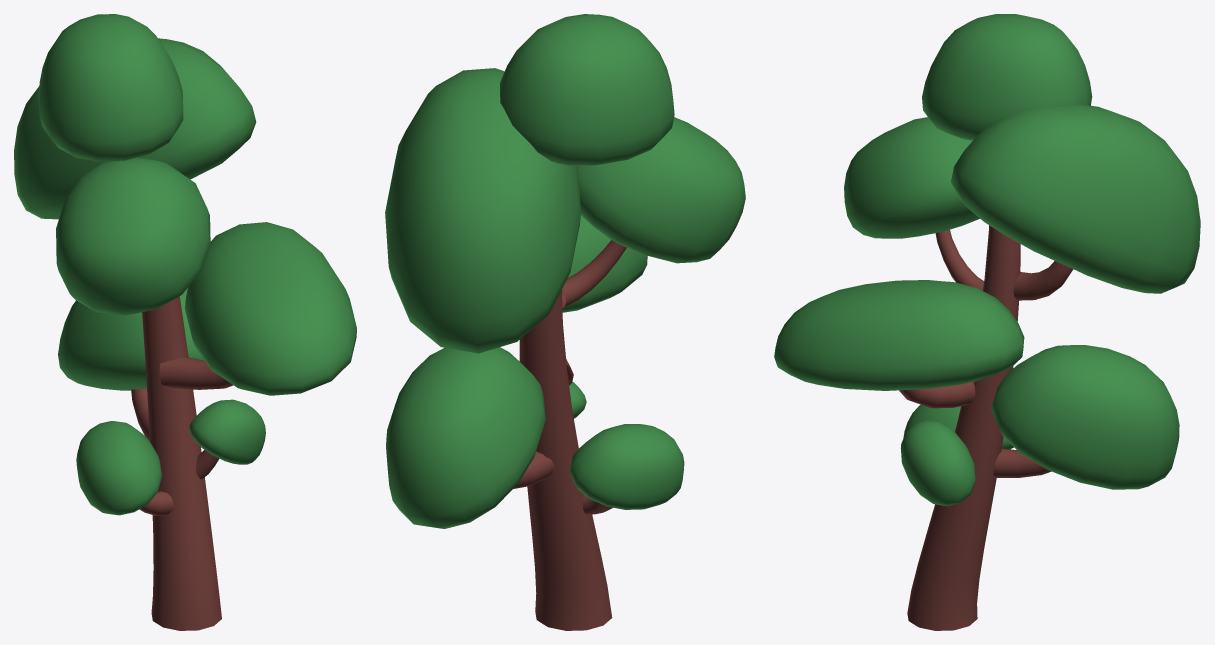
The model's file is tree01.fbx.
3 views of the same model, side by side, from view 1: azimuth 30°, elevation 25°; view 2: azimuth 150°, elevation 25°; view 3: azimuth 270°, elevation 25° (orthographic). The views are drawn at different scales.
Visible parts, largest first — view 1: Cube.017, Cube.015, Cube.014, BézierCurve.008, Cube.016, Cube.018, Cube.019, Cube.020, BézierCurve.011, BézierCurve.009, BézierCurve.013; view 2: Cube.016, Cube.018, Cube.014, Cube.015, BézierCurve.008, Cube.019, Cube.017, BézierCurve.012, BézierCurve.009; view 3: Cube.016, Cube.017, Cube.018, Cube.014, BézierCurve.008, Cube.015, Cube.020, BézierCurve.010, BézierCurve.011, BézierCurve.012, BézierCurve.009, Cube.019.
Boxes of the visible parts, x1,y1,x2,y2 form: Cube.017: [185, 222, 356, 395]; Cube.015: [56, 157, 210, 315]; Cube.014: [38, 14, 183, 161]; BézierCurve.008: [142, 296, 221, 630]; Cube.016: [14, 38, 256, 219]; Cube.018: [58, 288, 204, 390]; Cube.019: [76, 421, 162, 515]; Cube.020: [189, 399, 265, 464]; BézierCurve.011: [159, 357, 233, 389]; BézierCurve.009: [131, 389, 149, 440]; BézierCurve.013: [139, 491, 173, 515]; Cube.016: [385, 68, 580, 353]; Cube.018: [386, 347, 545, 528]; Cube.014: [500, 14, 674, 165]; Cube.015: [577, 117, 745, 263]; BézierCurve.008: [519, 290, 612, 630]; Cube.019: [569, 424, 684, 509]; Cube.017: [562, 215, 647, 312]; BézierCurve.012: [561, 240, 626, 308]; BézierCurve.009: [513, 451, 554, 488]; Cube.016: [951, 104, 1200, 293]; Cube.017: [774, 280, 1024, 390]; Cube.018: [991, 345, 1179, 489]; Cube.014: [922, 14, 1092, 140]; BézierCurve.008: [907, 225, 1020, 630]; Cube.015: [844, 117, 979, 238]; Cube.020: [900, 420, 975, 506]; BézierCurve.010: [1013, 261, 1073, 300]; BézierCurve.011: [899, 382, 975, 408]; BézierCurve.012: [935, 229, 984, 290]; BézierCurve.009: [993, 448, 1051, 477]; Cube.019: [903, 405, 1013, 449].
Bounding box in the file's own units: 316 × 639 × 430.
